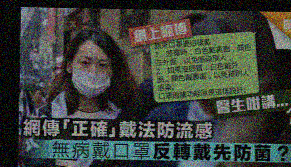with_mask: (67, 53, 112, 101)
